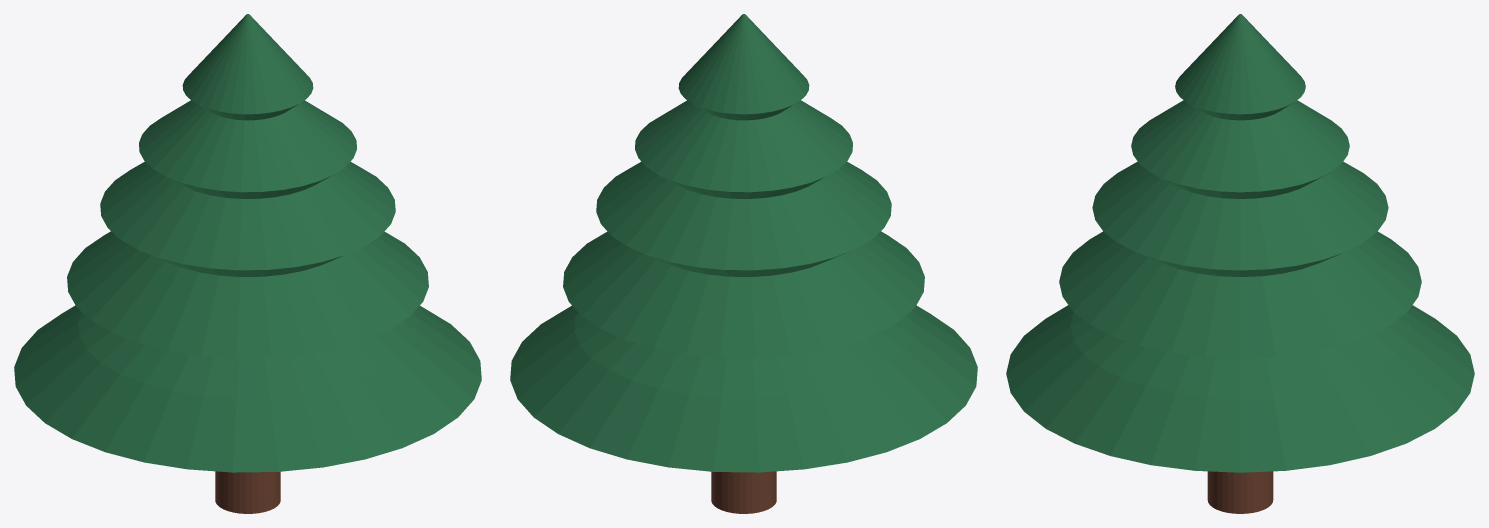
The model's file is Tree.fbx.
3 views of the same model, side by side, from view 1: azimuth 30°, elevation 25°; view 2: azimuth 150°, elevation 25°; view 3: azimuth 270°, elevation 25° (orthographic).
Visible parts, largest first — view 1: Tree; view 2: Tree; view 3: Tree.
Boxes of the visible parts, left/top/right/bottom form: Tree: left=14, top=14, right=481, bottom=513; Tree: left=510, top=14, right=977, bottom=513; Tree: left=1006, top=14, right=1474, bottom=513.
Size of the model in its own units: 790 by 903 by 790.
